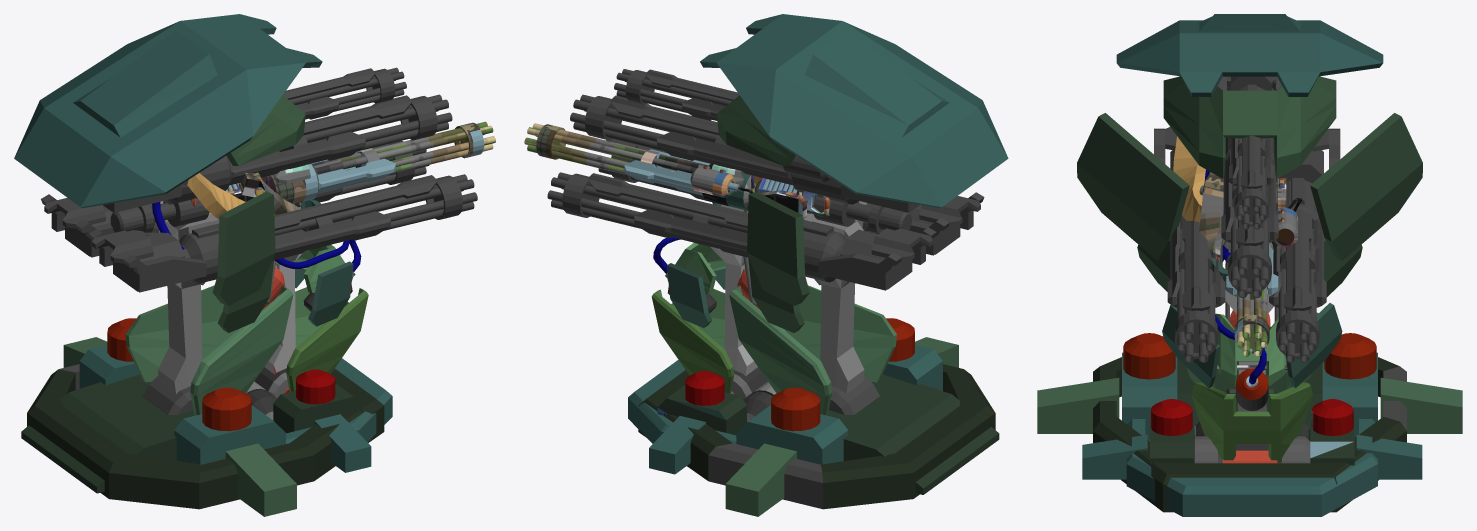
The model's file is Turret-Type2-3.fbx.
3 views of the same model, side by side, from view 1: azimuth 30°, elevation 25°; view 2: azimuth 150°, elevation 25°; view 3: azimuth 270°, elevation 25° (orthographic). The views are drawn at different scales.
Visible parts, largest first — view 1: pasted__VH_SK_Turret, VH_SK_Turret, polySurface3796, pasted__pasted__VH_SK_Turret (×3), Gun_turrent_1, Level_4_Gun_Turrent, polySurface3795, Gun_Turrent; view 2: pasted__VH_SK_Turret, VH_SK_Turret, polySurface3796, pasted__pasted__VH_SK_Turret (×3), Level_4_Gun_Turrent, Gun_turrent_1, polySurface3795, Gun_Turrent; view 3: polySurface3796, pasted__VH_SK_Turret, VH_SK_Turret, Gun_Turrent, pasted__pasted__VH_SK_Turret (×3), Level_4_Gun_Turrent, Gun_turrent_1, polySurface3795.
Part boxes in pixels (x1,y1,x2,y2): pasted__VH_SK_Turret: [27, 201, 384, 516]; VH_SK_Turret: [14, 14, 322, 207]; polySurface3796: [21, 201, 392, 493]; pasted__pasted__VH_SK_Turret (×3): [41, 67, 477, 291]; Gun_turrent_1: [103, 94, 452, 232]; Level_4_Gun_Turrent: [41, 144, 477, 292]; polySurface3795: [191, 121, 495, 231]; Gun_Turrent: [201, 191, 275, 332]; pasted__VH_SK_Turret: [638, 201, 995, 516]; VH_SK_Turret: [700, 14, 1008, 207]; polySurface3796: [628, 237, 999, 494]; pasted__pasted__VH_SK_Turret (×3): [548, 69, 984, 289]; Level_4_Gun_Turrent: [547, 139, 983, 290]; Gun_turrent_1: [570, 94, 919, 232]; polySurface3795: [524, 123, 830, 219]; Gun_Turrent: [747, 191, 821, 332]; polySurface3796: [1082, 245, 1422, 516]; pasted__VH_SK_Turret: [1037, 169, 1462, 512]; VH_SK_Turret: [1116, 14, 1383, 178]; Gun_Turrent: [1077, 113, 1422, 297]; pasted__pasted__VH_SK_Turret (×3): [1154, 76, 1340, 362]; Level_4_Gun_Turrent: [1154, 127, 1340, 362]; Gun_turrent_1: [1173, 76, 1278, 297]; polySurface3795: [1199, 172, 1301, 356].
Bounding box in the file's own units: 321 × 275 × 252.
